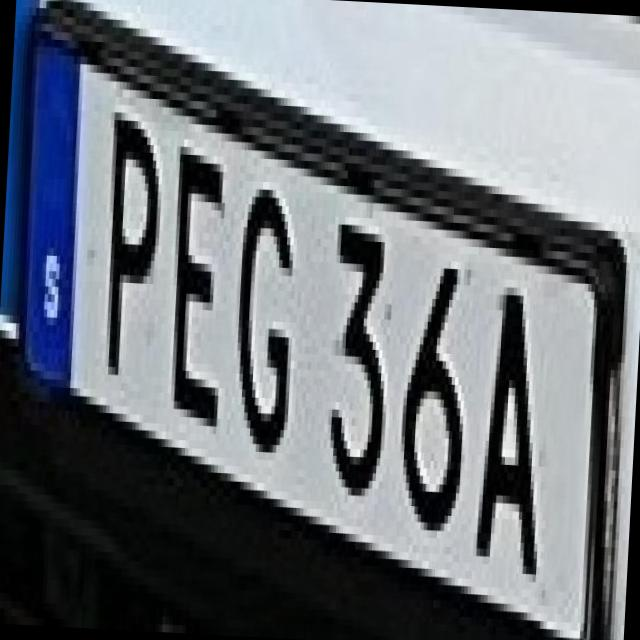3: (301, 193, 401, 497)
6: (383, 235, 482, 532)
A: (456, 262, 556, 568)
E: (146, 122, 240, 428)
G: (215, 157, 311, 454)
P: (81, 80, 174, 378)
